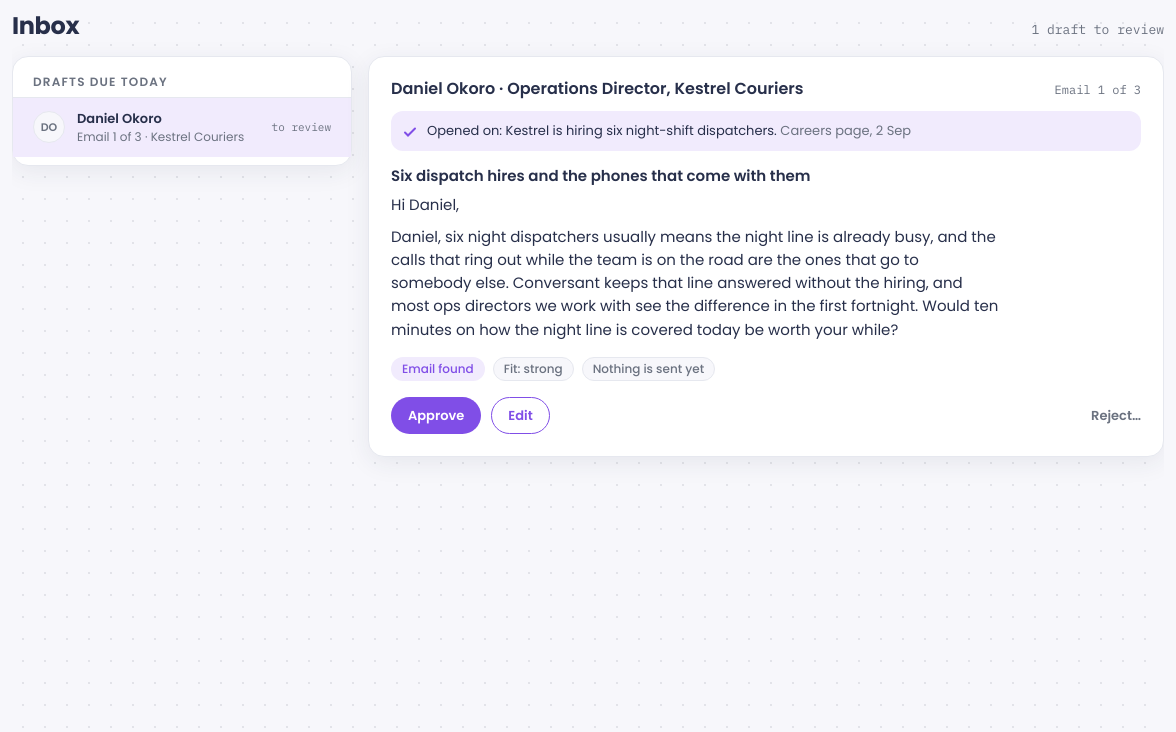
Scenario: one decision at a time (outreach v2.1) › @proof sends one approval for a double press, and shows it worked
Click the button "Approve".
click(436, 416)  # box left=391, top=397, right=481, bottom=434
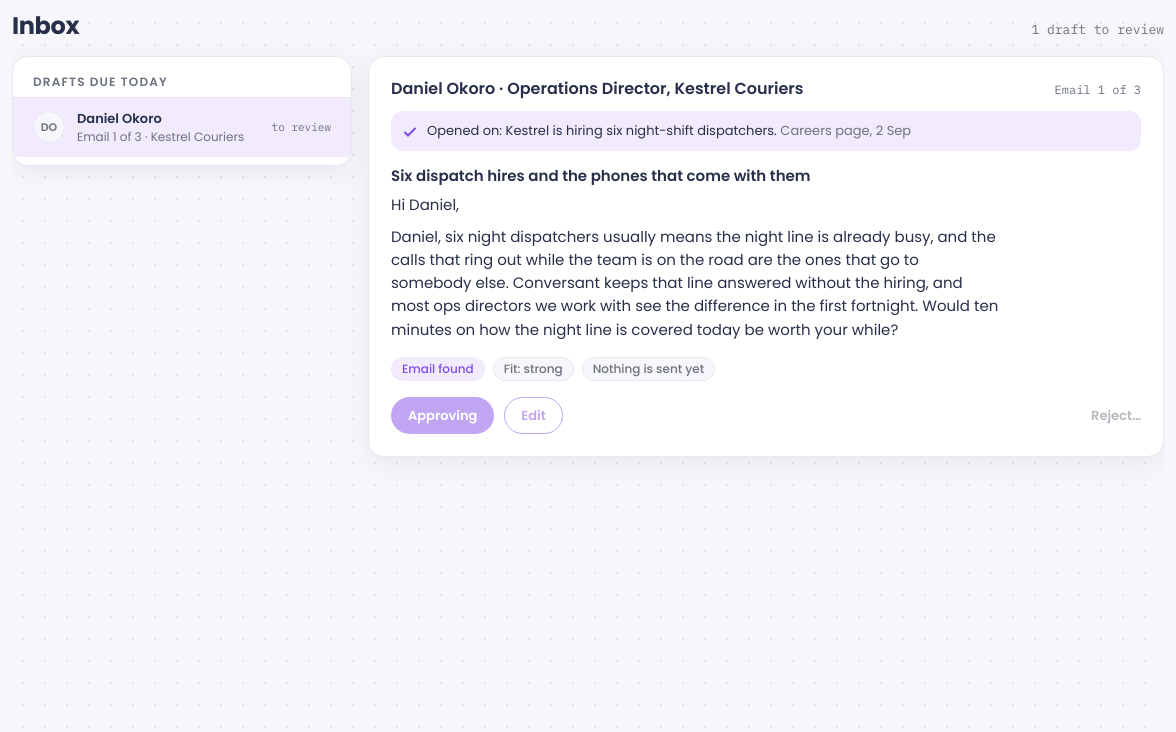
Click the button named "Approve".
click(443, 416)  # box left=391, top=397, right=494, bottom=434
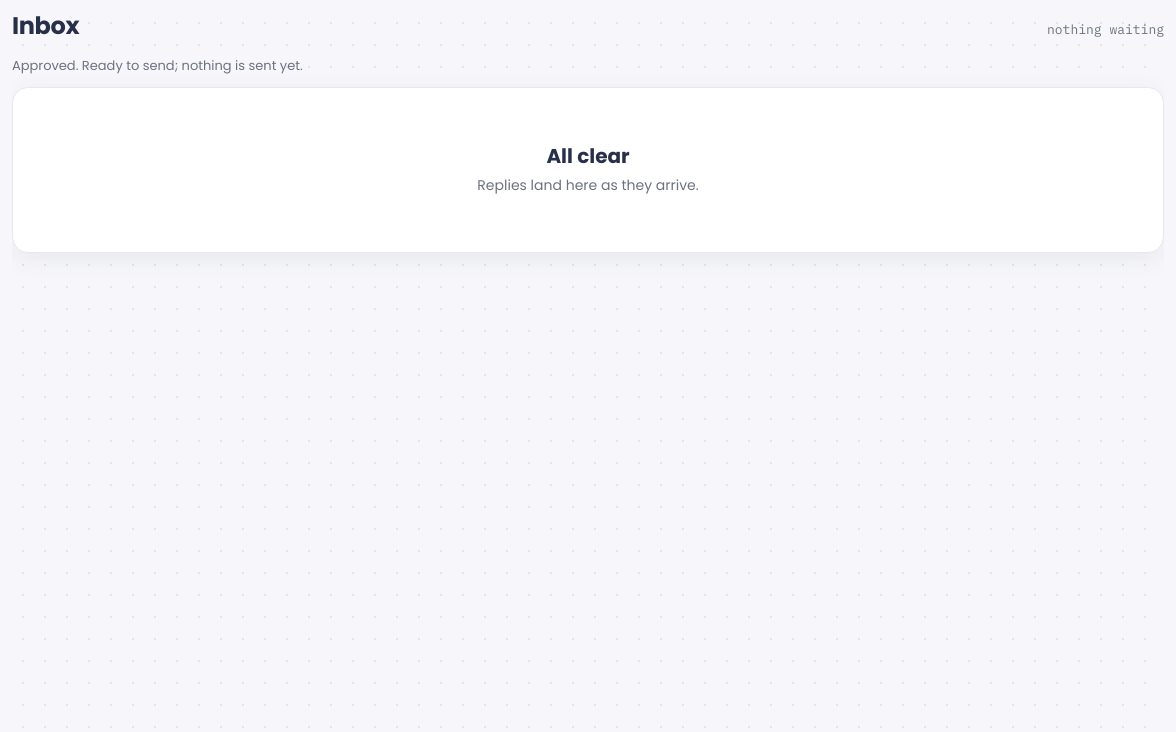
Expected: the text "Approved. Ready to send; nothing is sent yet." is shown, left=12, top=56, right=303, bottom=75
